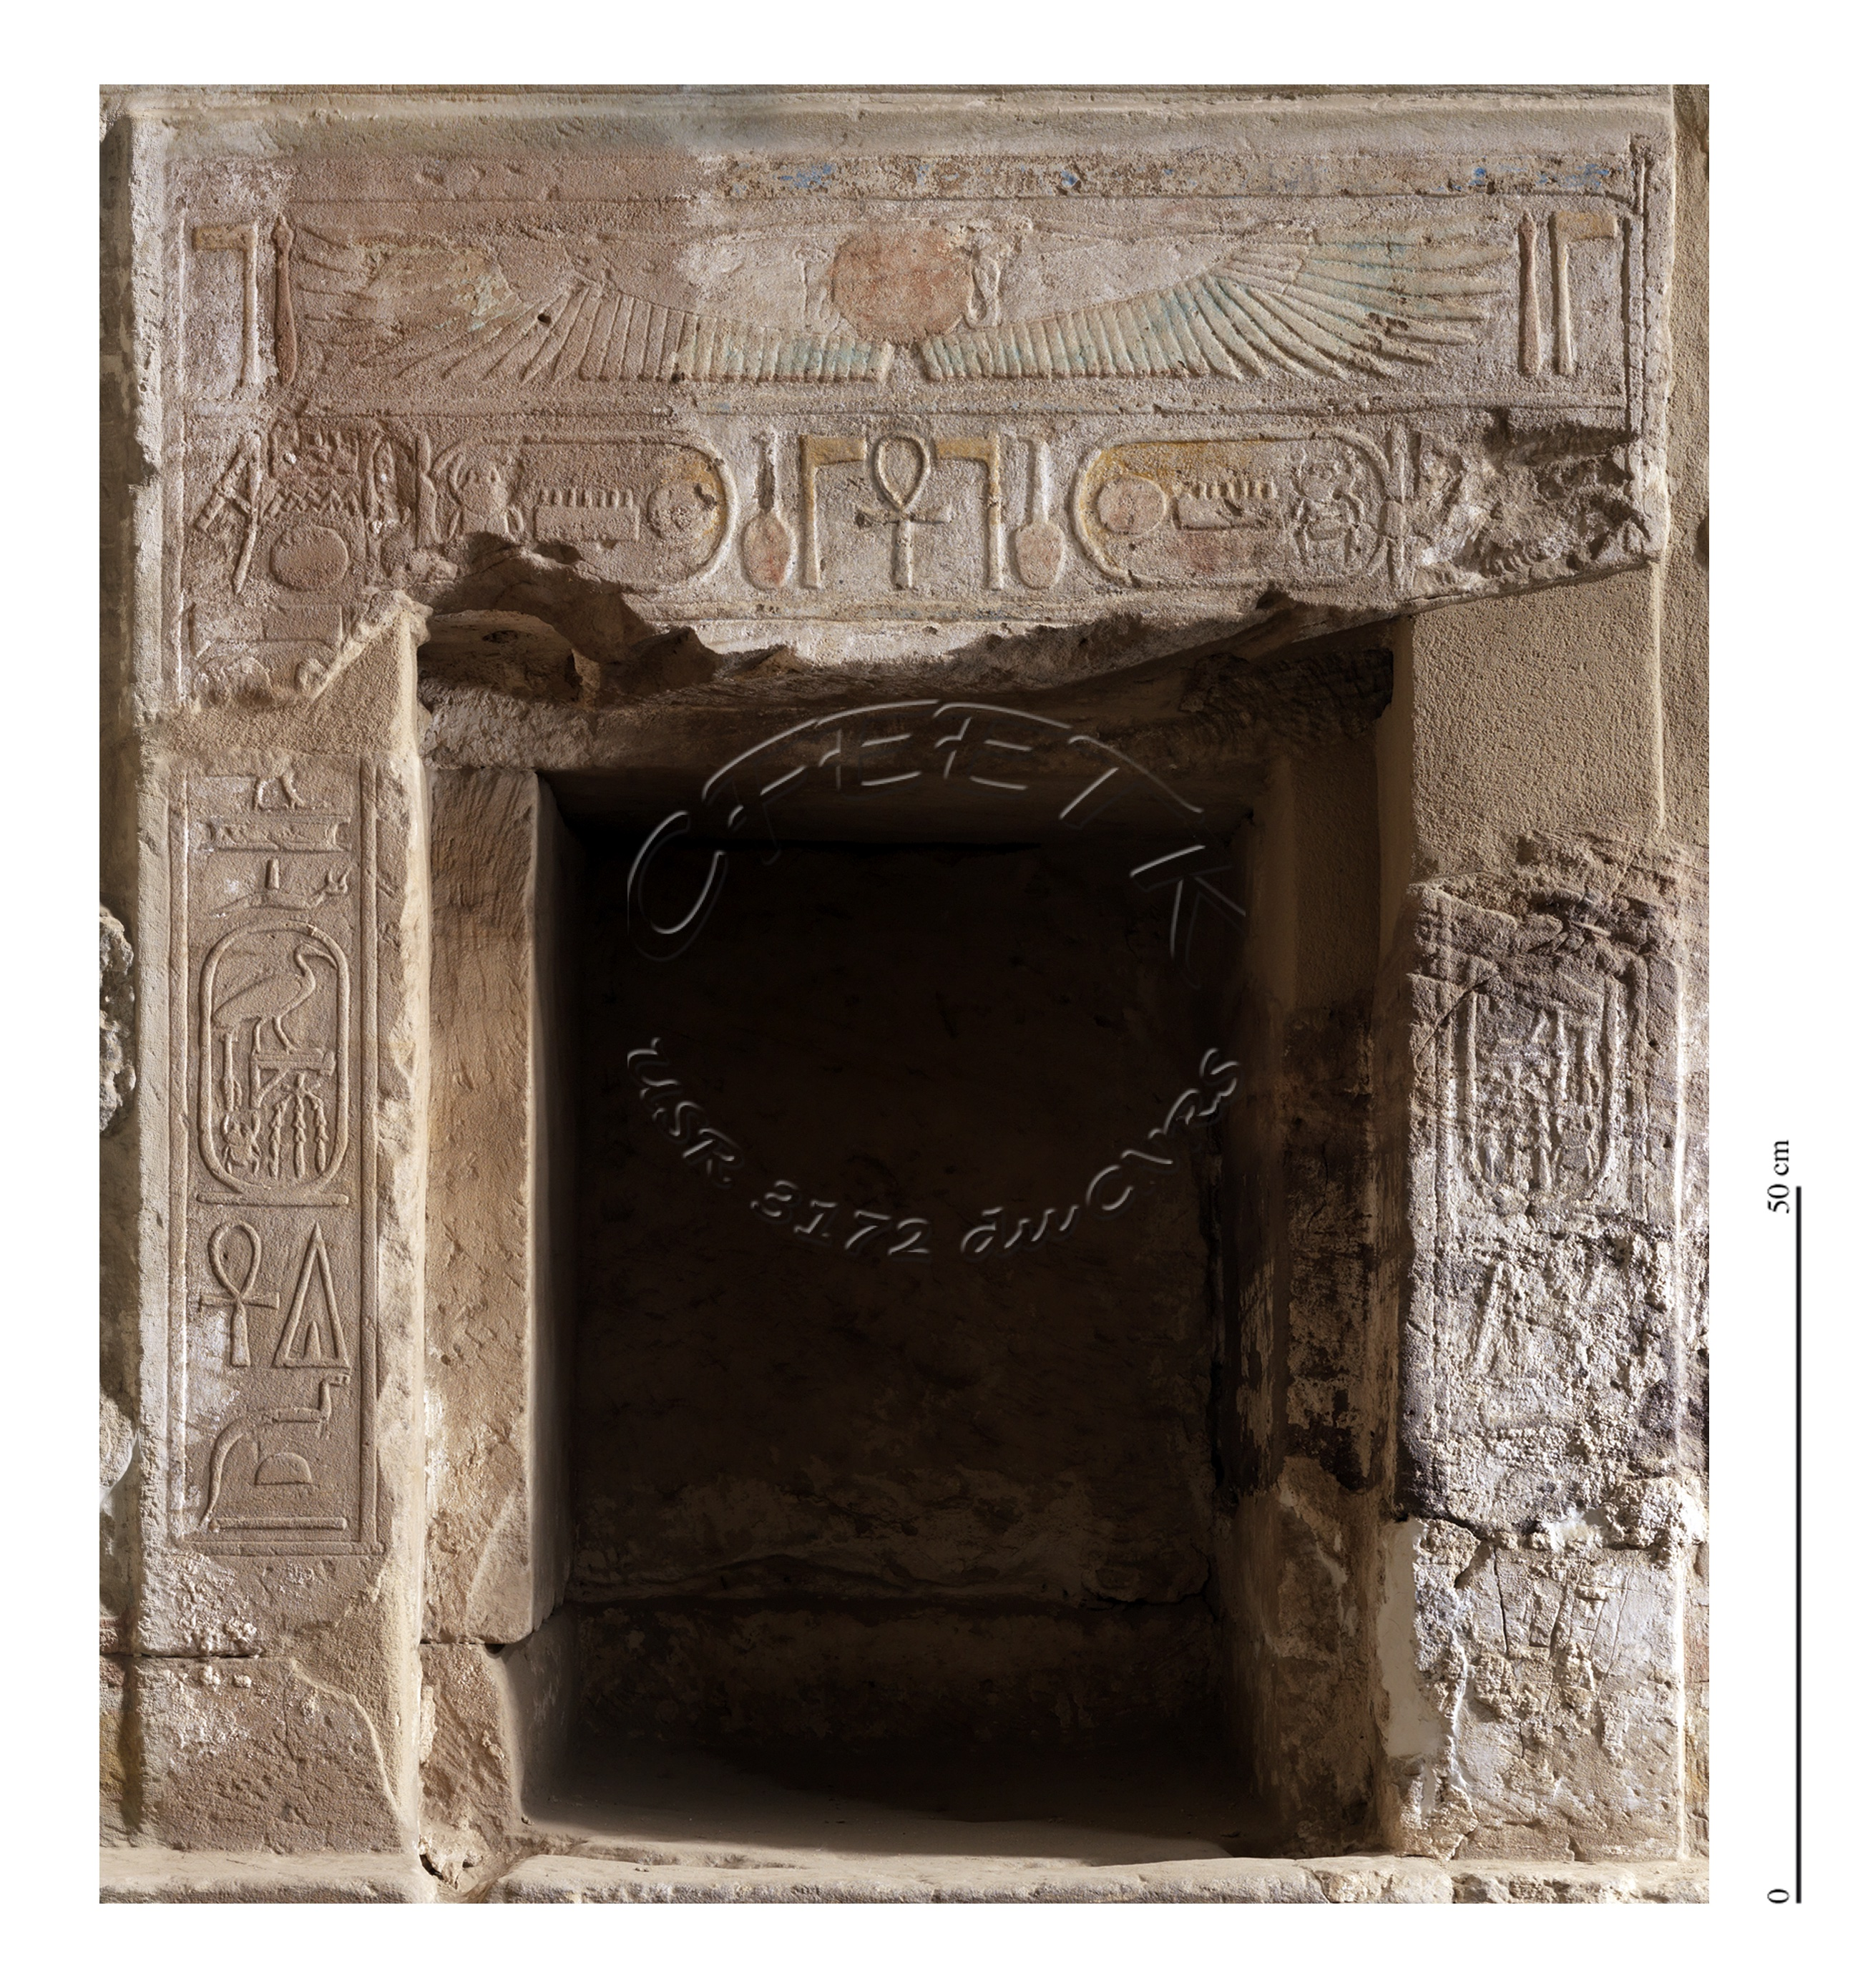F35: (998, 426, 1084, 599), (729, 424, 813, 600)
I10: (190, 1359, 361, 1537)
